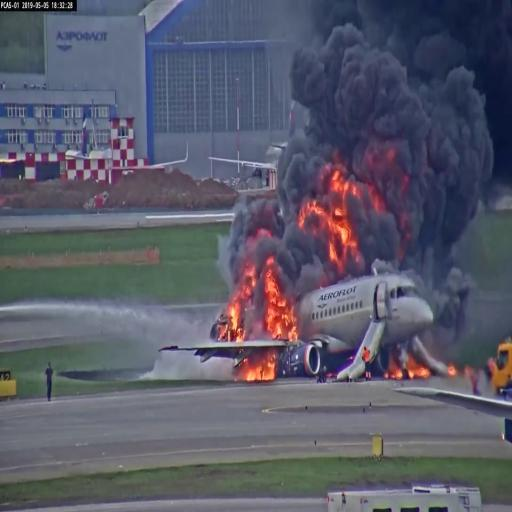fire: (265, 267, 296, 342), (246, 352, 276, 381)
smoke: (298, 29, 488, 219)
